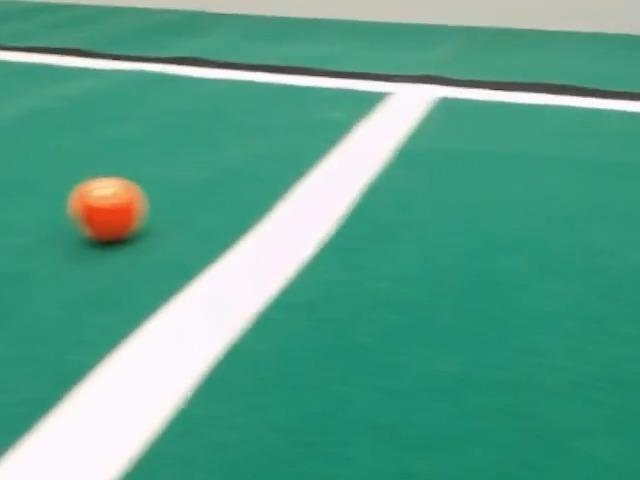Ball: (67, 177, 148, 242)
